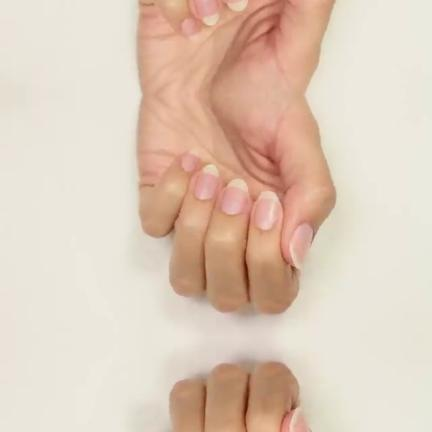Nail: (289, 224, 313, 268), (254, 190, 279, 229), (222, 178, 248, 214), (194, 163, 220, 198), (194, 0, 220, 25), (289, 406, 311, 432), (181, 147, 201, 171), (181, 17, 201, 41), (226, 0, 248, 10)
